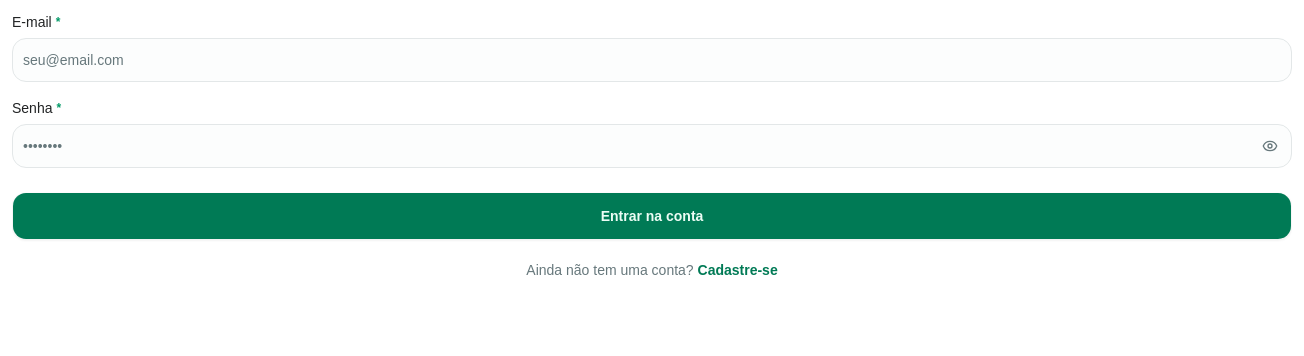
Test: LoginForm: envio › mostra a mensagem de erro devolvida pela API
In the field labelled "E-mail *": (652, 60) [12,38,1292,82], type "maria@verdear.dev"
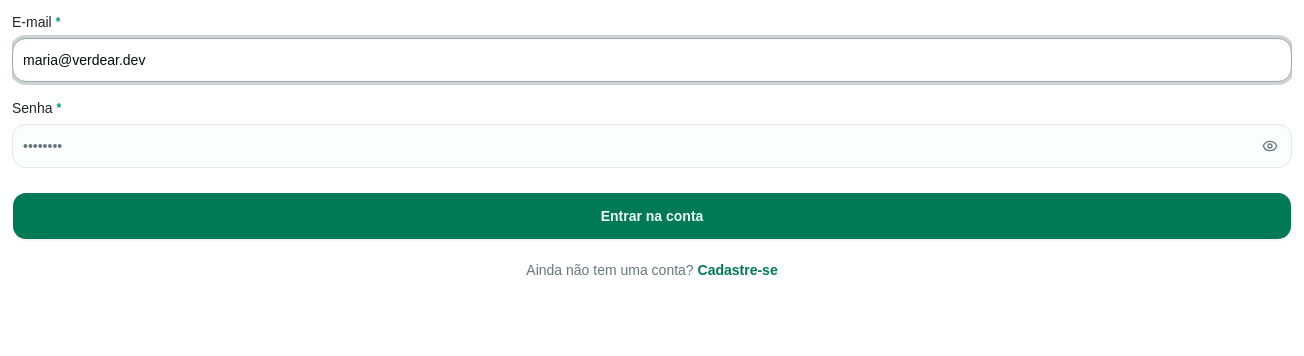
In the password field labelled "Senha *": (652, 146) [12,124,1292,168], type "senha-errada"
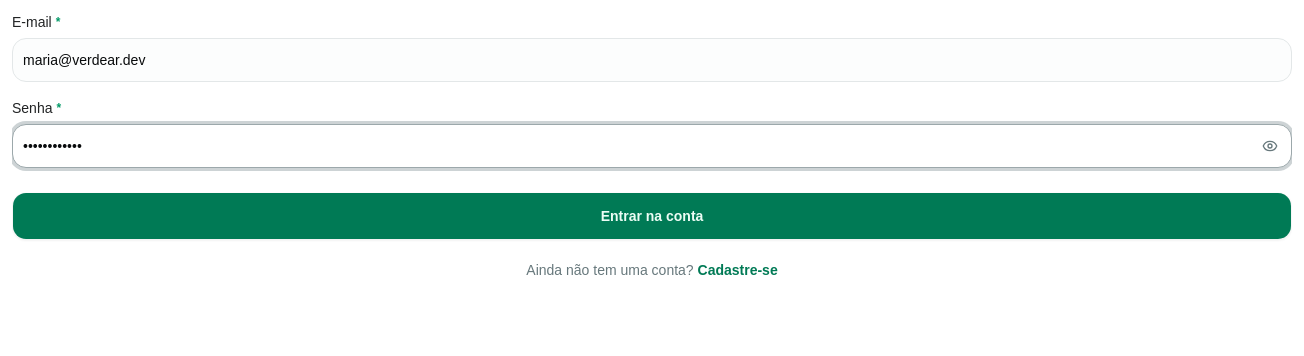
Click the button "Entrar na conta": (652, 216) [12,192,1292,240]
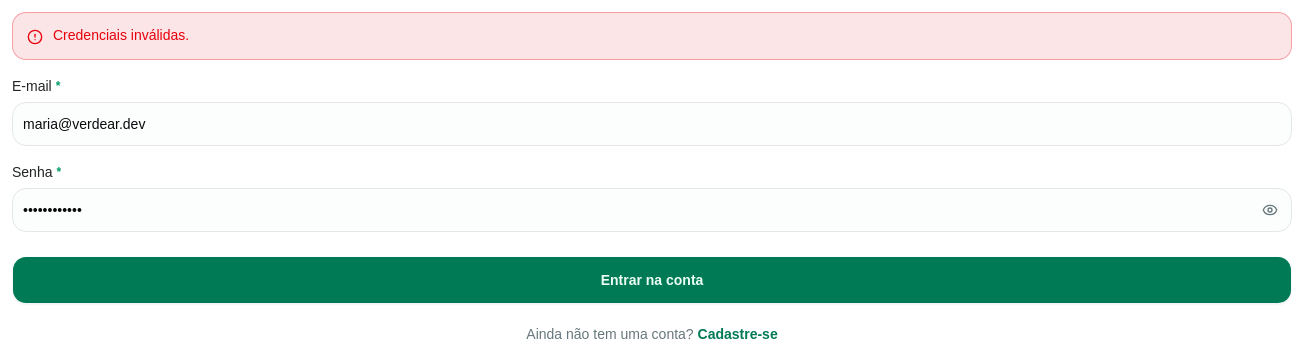
Now the message reads "Credenciais inválidas.", box [53,27,189,43]
